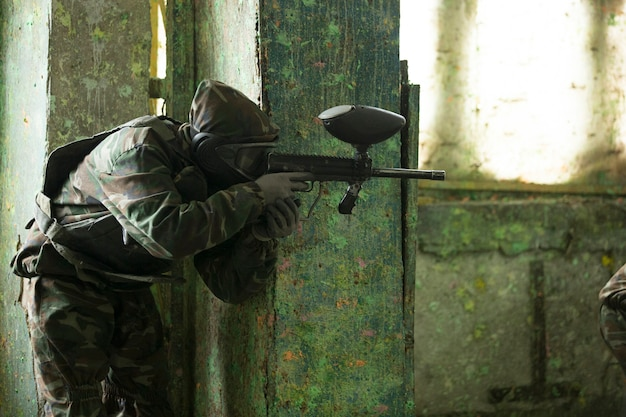gun: (267, 102, 446, 217)
